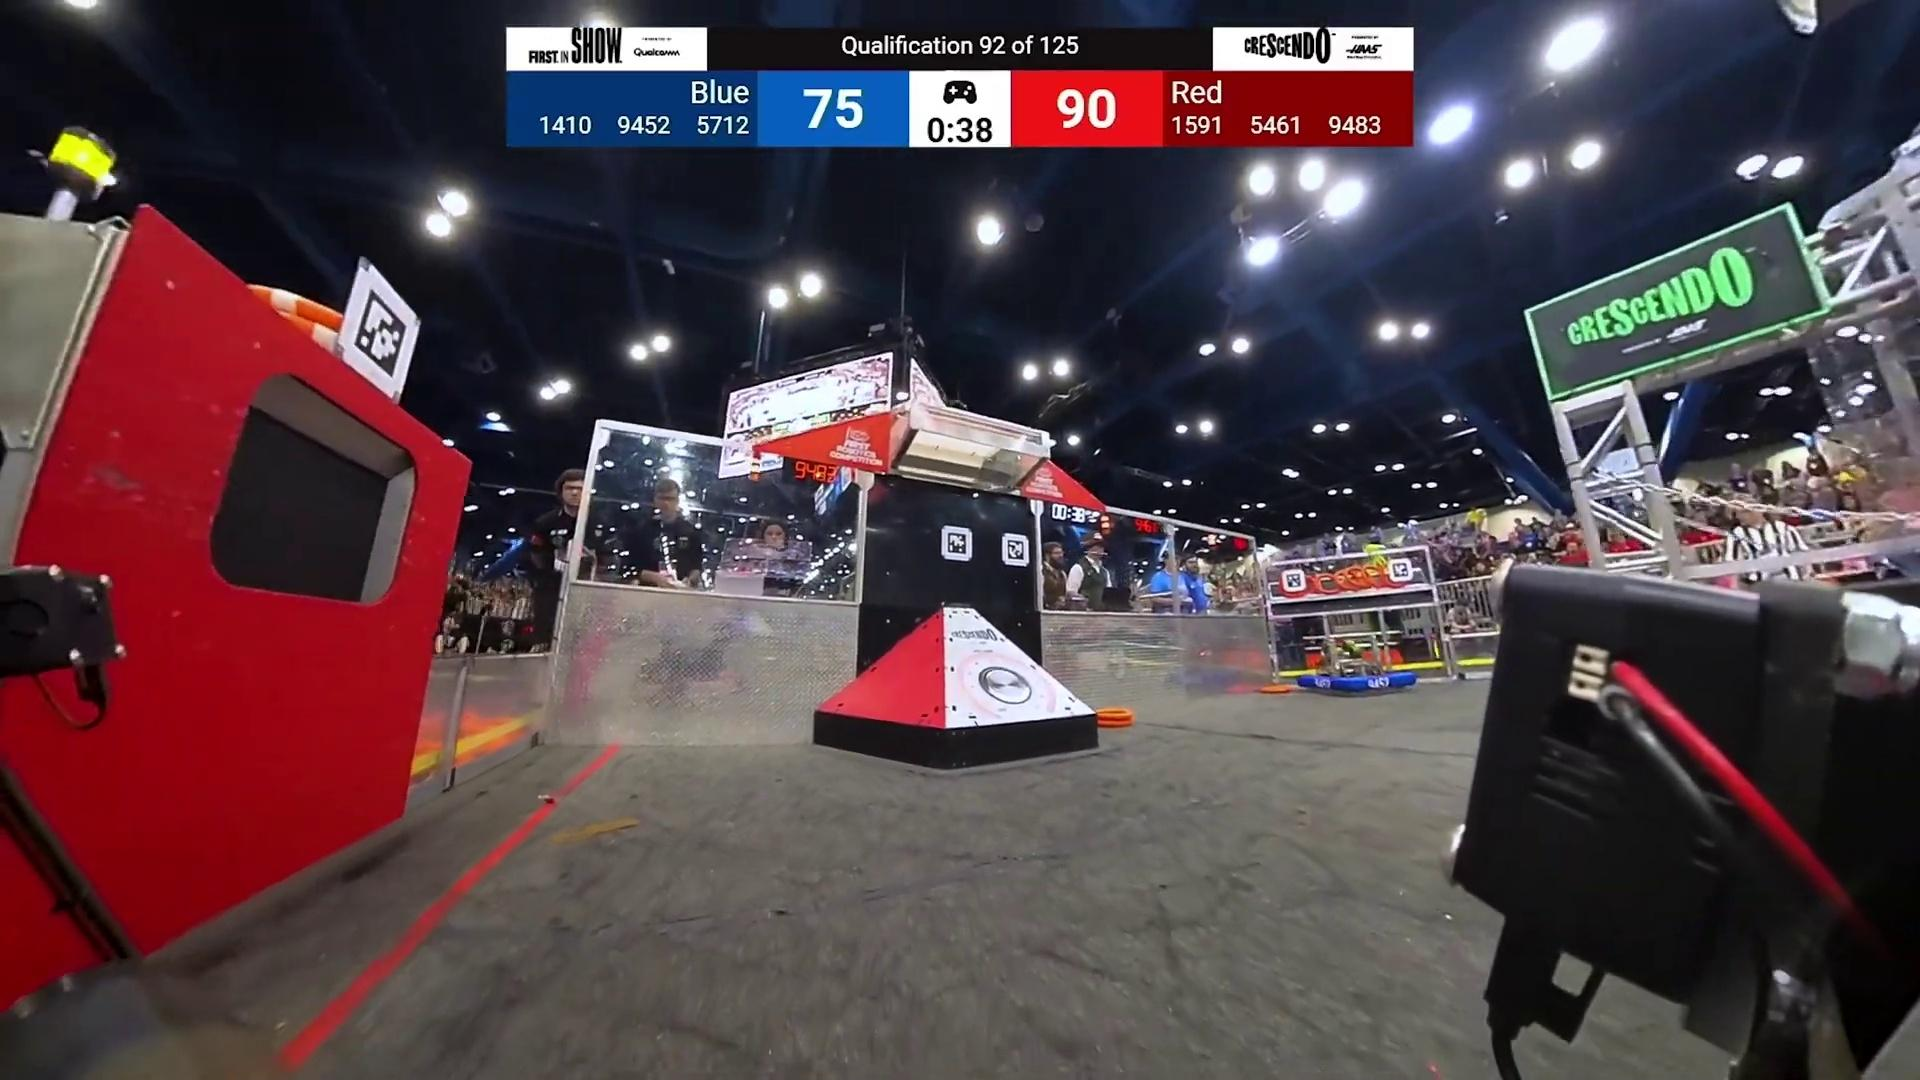robot: (1299, 637, 1415, 694)
